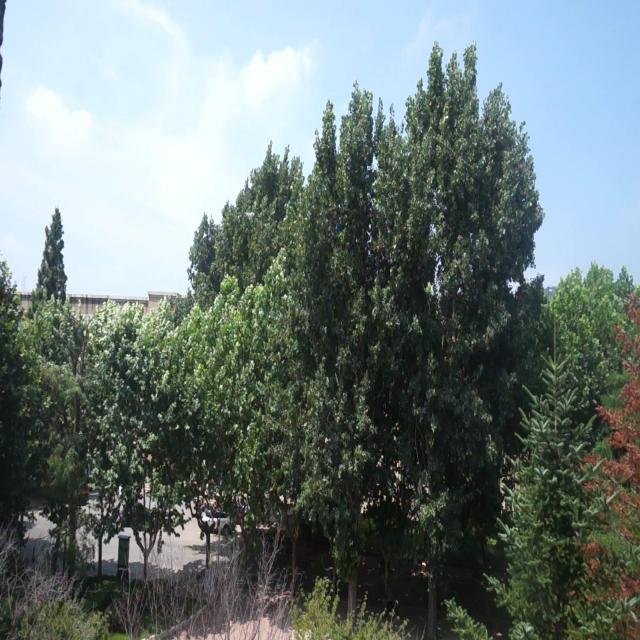UAV: (245, 211, 254, 220)
